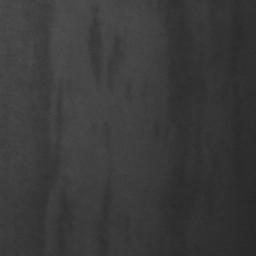Inclusion: (0, 0, 63, 256), (154, 0, 206, 256), (87, 17, 105, 79)
